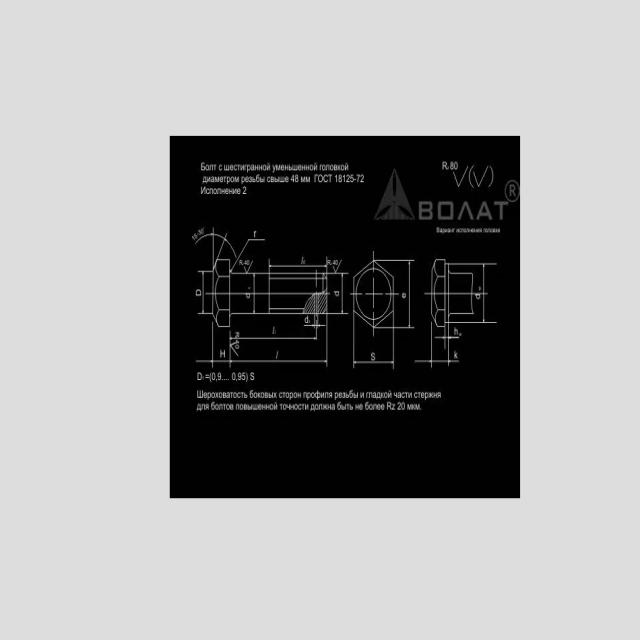marking_line: (195, 328, 329, 369), (229, 330, 329, 369), (414, 328, 463, 369), (353, 329, 396, 370), (192, 226, 237, 259), (475, 263, 498, 324), (395, 259, 415, 329), (230, 237, 266, 272), (228, 328, 318, 341), (195, 321, 215, 369), (268, 257, 329, 272), (328, 272, 349, 315), (197, 270, 212, 316), (434, 328, 461, 351), (304, 315, 327, 327), (252, 275, 256, 313)
numeric: (360, 173, 365, 184), (441, 161, 447, 170), (337, 174, 343, 183), (217, 372, 222, 381), (211, 372, 216, 381), (346, 174, 351, 182), (454, 161, 458, 170), (357, 174, 361, 183), (350, 174, 354, 183), (295, 174, 299, 183), (291, 174, 295, 183), (243, 186, 247, 195), (232, 372, 236, 381), (238, 372, 242, 381), (197, 229, 201, 236), (451, 161, 454, 170), (343, 174, 346, 183), (335, 174, 338, 183), (201, 227, 204, 236), (194, 232, 197, 240), (242, 372, 245, 380), (191, 236, 195, 241), (247, 260, 250, 266), (244, 260, 247, 265), (303, 260, 305, 265)
special_symbol: (472, 166, 489, 188), (452, 165, 468, 187), (506, 180, 520, 203), (231, 340, 240, 357), (488, 165, 494, 190), (243, 260, 253, 273), (469, 164, 474, 189), (333, 260, 342, 272), (245, 372, 249, 383), (209, 372, 211, 384)
